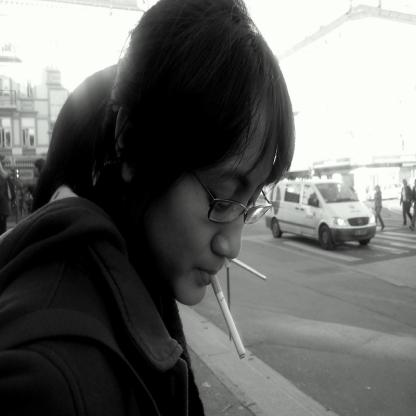smoking: (210, 272, 246, 359)
